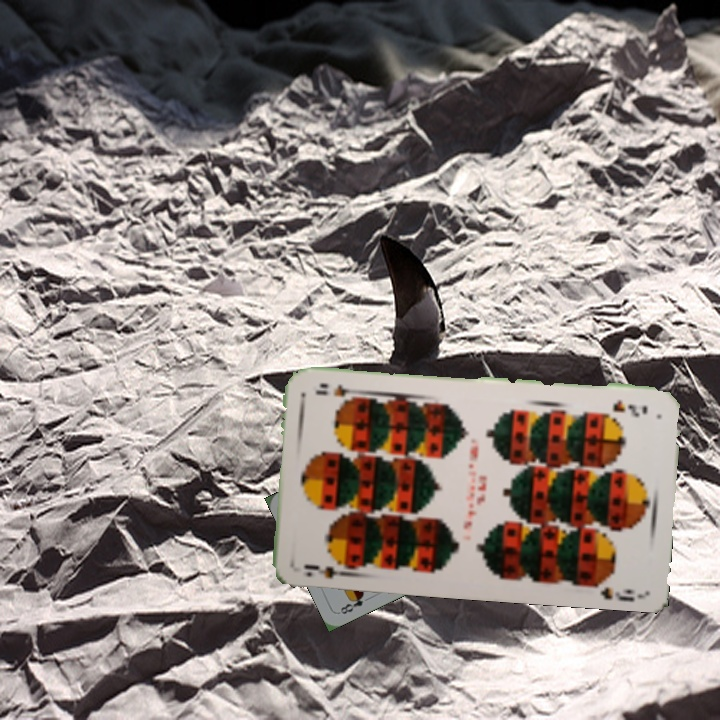E8: (336, 588, 367, 617)
S9: (299, 555, 353, 582), (609, 395, 650, 417)
